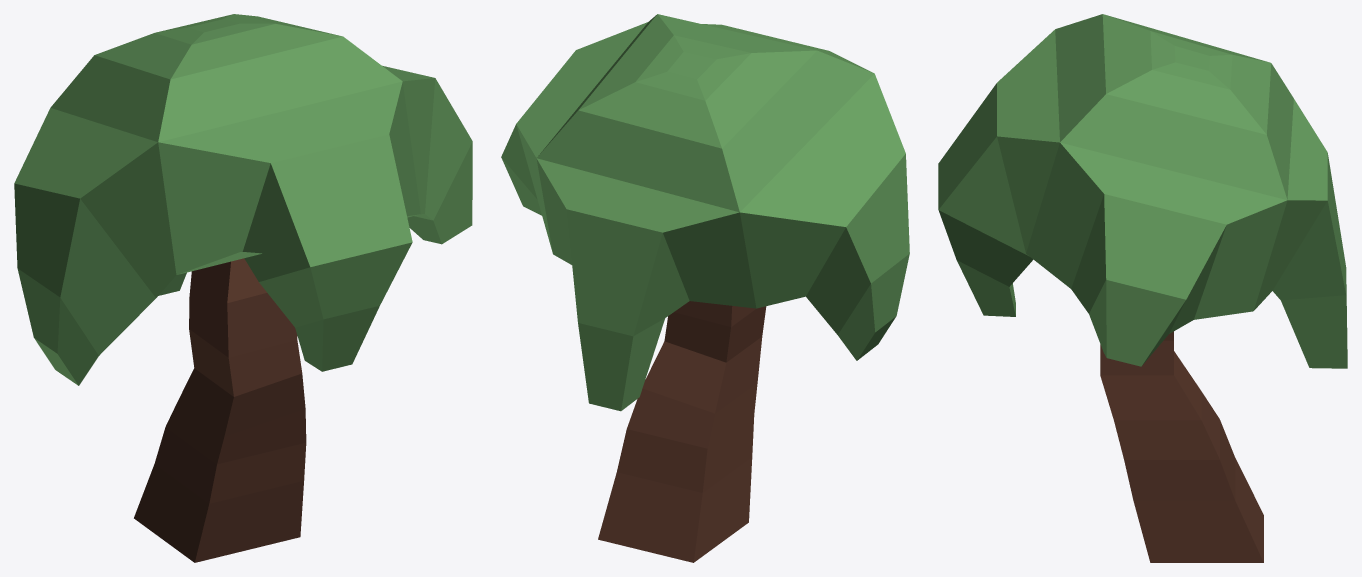
The model's file is Oak_2.glb.
The picture shows the model from 3 angles, left to right: view 1: azimuth 30°, elevation 25°; view 2: azimuth 150°, elevation 25°; view 3: azimuth 270°, elevation 25°; orthographic projection. The views are drawn at different scales.
Visible parts, largest first — view 1: Cube.003, Cube.002; view 2: Cube.003, Cube.002; view 3: Cube.003, Cube.002.
Boxes of the visible parts, box(x1,y1,x2,y2) form: Cube.003: box(14, 14, 472, 385); Cube.002: box(134, 258, 306, 562); Cube.003: box(501, 14, 909, 411); Cube.002: box(598, 301, 766, 562); Cube.003: box(938, 14, 1347, 368); Cube.002: box(1100, 331, 1263, 562).
Size of the model in its own units: 7.76 by 9.38 by 7.21.
